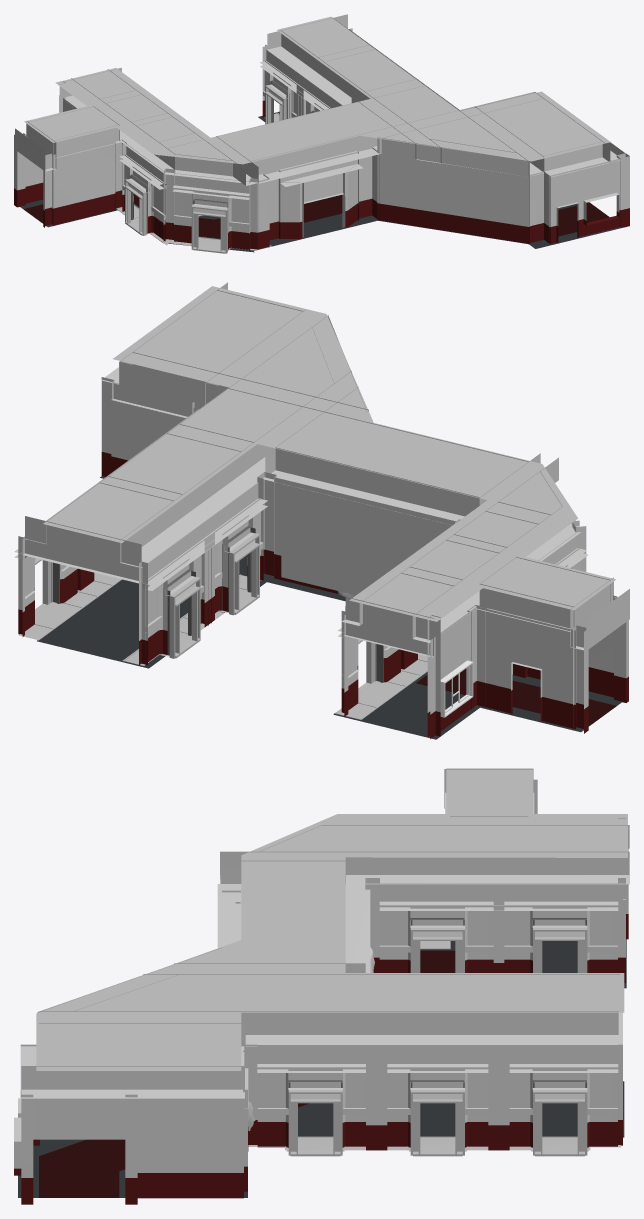
The model's file is SM_H_Building_Tide_InterrogationRoom_13_ATLAS.fbx.
3 views of the same model, one above another, from view 1: azimuth 30°, elevation 25°; view 2: azimuth 150°, elevation 25°; view 3: azimuth 270°, elevation 25° (orthographic). The views are drawn at different scales.
Visible parts, largest first — view 1: SM_H_Building_Tide_InterrogationRoom_13_ATLAS; view 2: SM_H_Building_Tide_InterrogationRoom_13_ATLAS; view 3: SM_H_Building_Tide_InterrogationRoom_13_ATLAS.
Part boxes in pixels (bbox=[...]): SM_H_Building_Tide_InterrogationRoom_13_ATLAS: bbox=[14, 14, 629, 253]; SM_H_Building_Tide_InterrogationRoom_13_ATLAS: bbox=[14, 282, 629, 739]; SM_H_Building_Tide_InterrogationRoom_13_ATLAS: bbox=[14, 768, 629, 1204].
Size of the model in its own units: 3439 by 2805 by 626.
